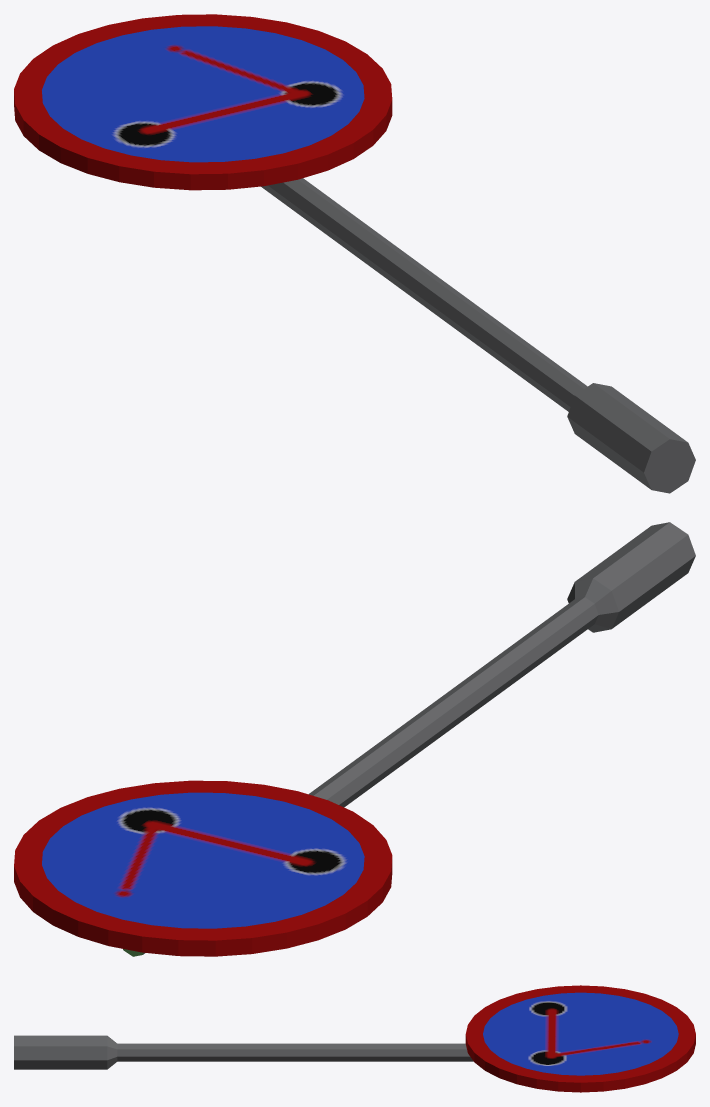
Rendered from Sign_Scooter.fbx.
3 renders of one model, top to bottom at view 1: azimuth 30°, elevation 25°; view 2: azimuth 150°, elevation 25°; view 3: azimuth 270°, elevation 25°, orthographic. The views are drawn at different scales.
Visible parts, largest first — view 1: Prop_Sign_Scooter; view 2: Prop_Sign_Scooter; view 3: Prop_Sign_Scooter.
Part boxes in pixels (x1,y1,x2,y2): Prop_Sign_Scooter: [14, 14, 695, 493]; Prop_Sign_Scooter: [14, 522, 695, 956]; Prop_Sign_Scooter: [14, 985, 695, 1092].
Size of the model in its own units: 74.1 by 12.44 by 219.
